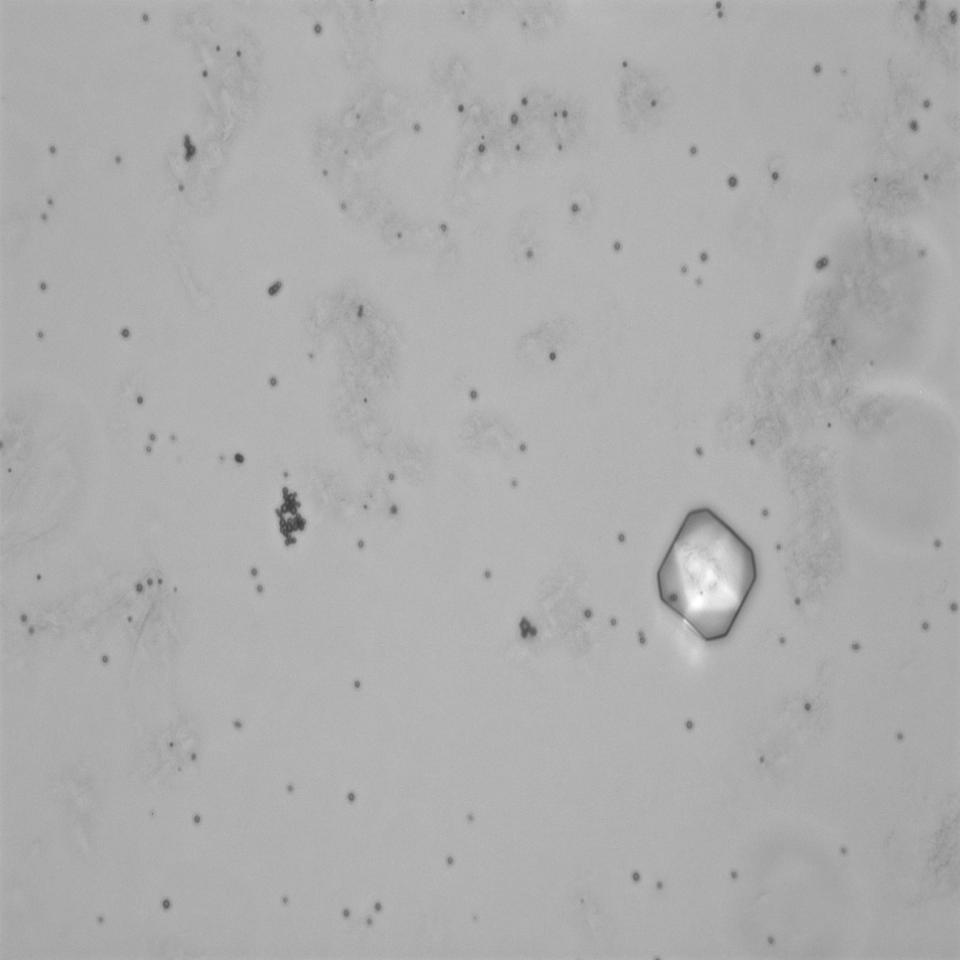crystal: (654, 504, 762, 645)
